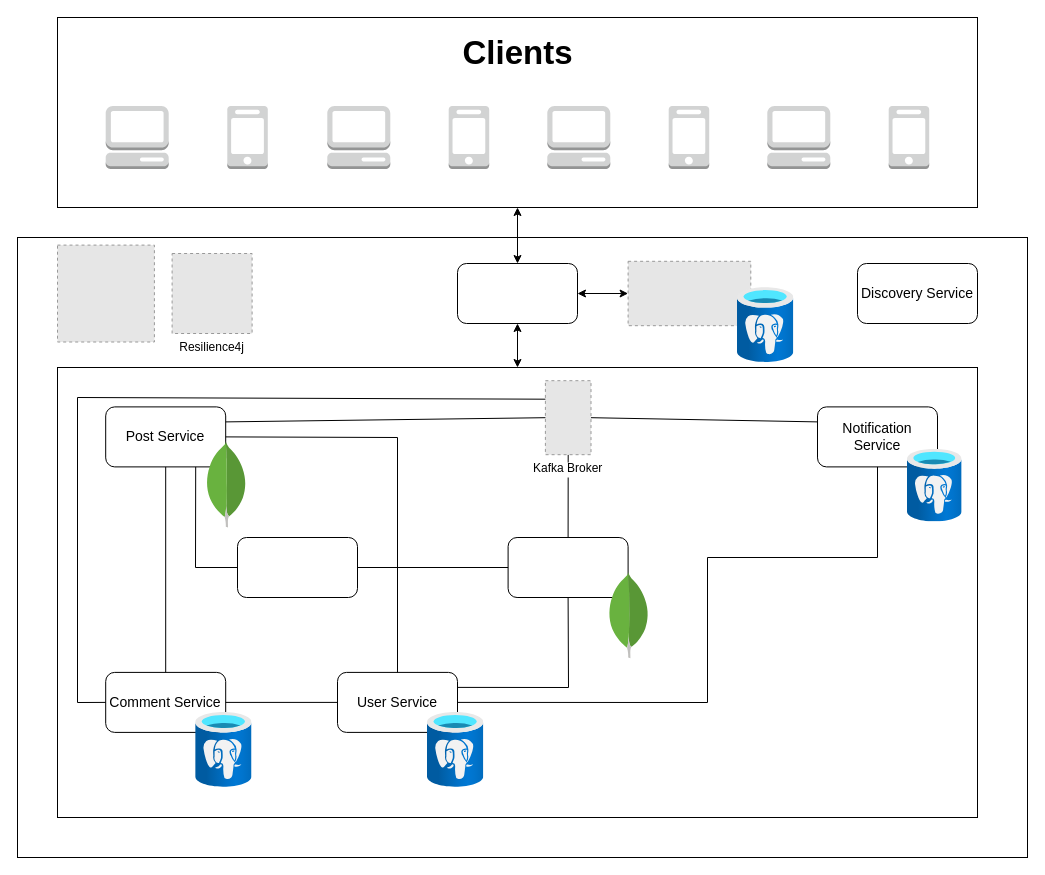
This 1045x875 diagram has some shape labels left out. Grey dashed boxes stand in for pictures. Here are the shapes that lost their labels. From the top down, the centre of each, then its label:
At [517,293]: "API Gateway".
At [297,567]: "Feed Service".
At [567,567]: "Friendship Service".
